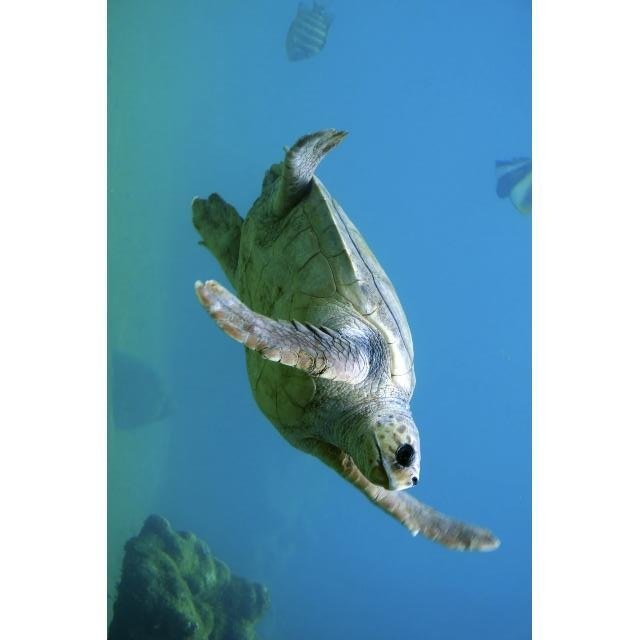turtle: (188, 128, 502, 551)
